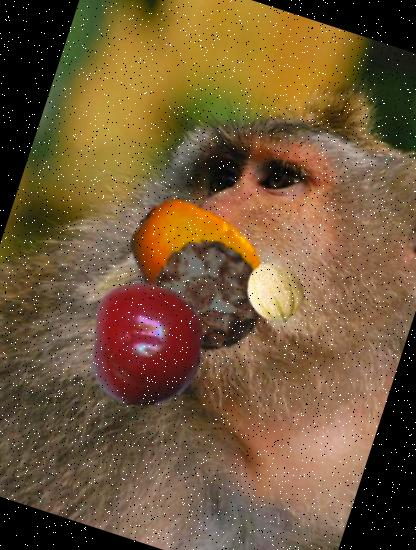Cantaloupe: (235, 252, 314, 331)
Cherry: (69, 264, 225, 420)
Kumquats: (106, 176, 286, 356)
Pineapple: (134, 220, 282, 370)
